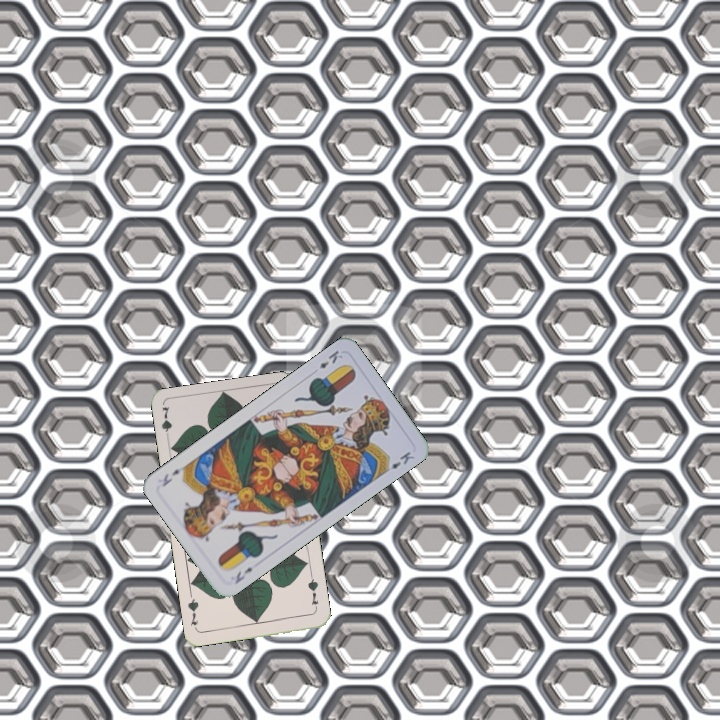EK: (315, 346, 346, 371), (231, 563, 255, 587)
G7: (303, 572, 321, 613), (157, 403, 174, 444)
